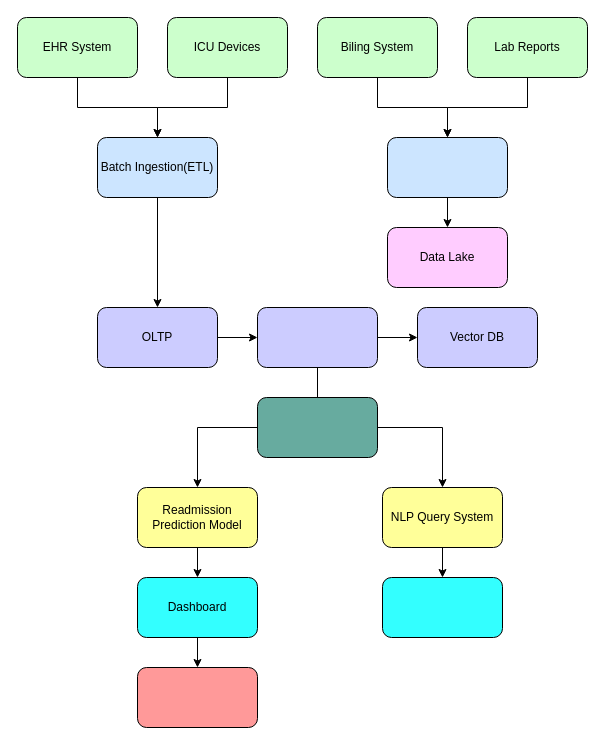
The diagram is 605 pixels wide and 745 high, and some of its shapes have lost their labels. The box of each missing label's shape, as (x1, y1, x2, y2) in pixels:
Data Processing: (256, 396, 378, 458)
Data Warehouse: (256, 306, 378, 368)
Doctor Query Interface: (382, 576, 502, 638)
ICU Alert System: (136, 666, 258, 728)
Streaming(Kafka): (386, 136, 508, 198)
